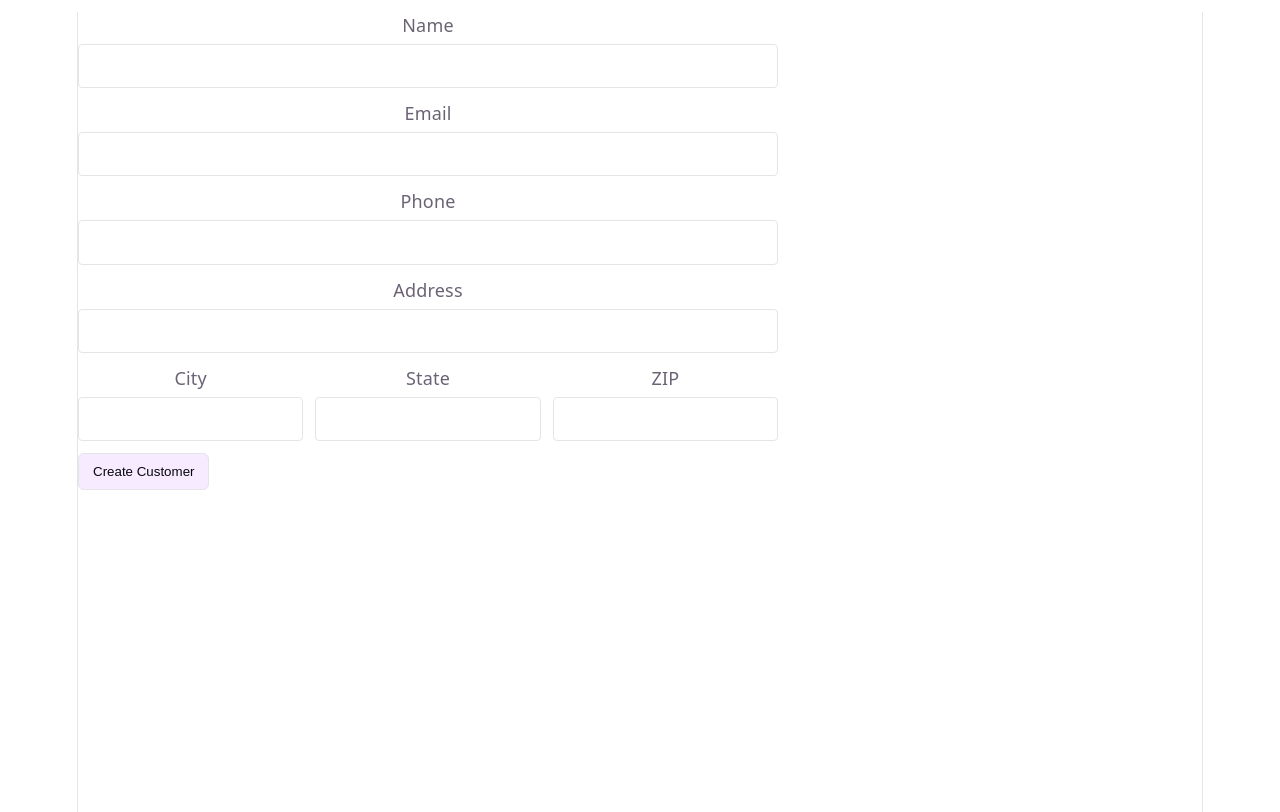
Scenario: CustomerForm › clears field error when user edits that field
Click the button "Create Customer" at x=144, y=471, box [78, 453, 210, 490]
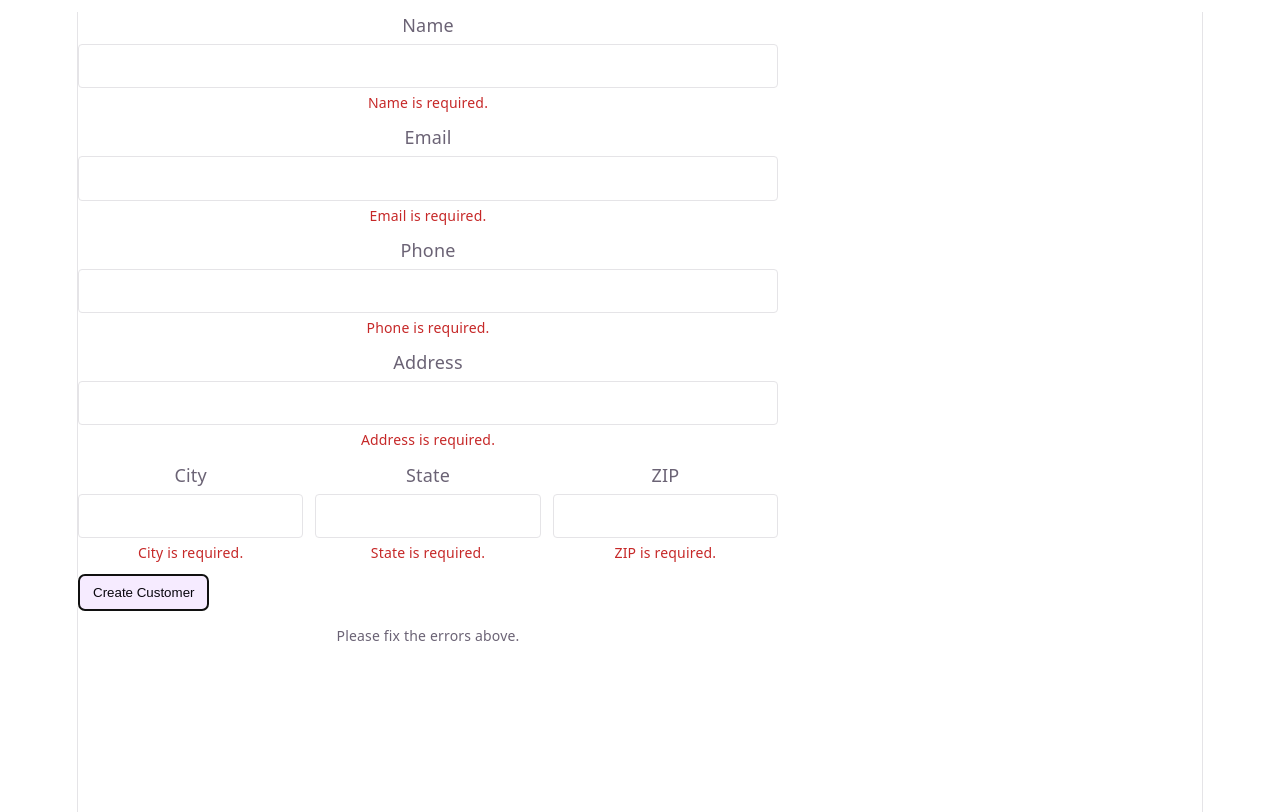
Expected: the text "Name is required." is shown, [368, 93, 488, 112]
Type "Alice" into the field labelled "Name Name is required." at x=428, y=66, box [78, 44, 778, 88]
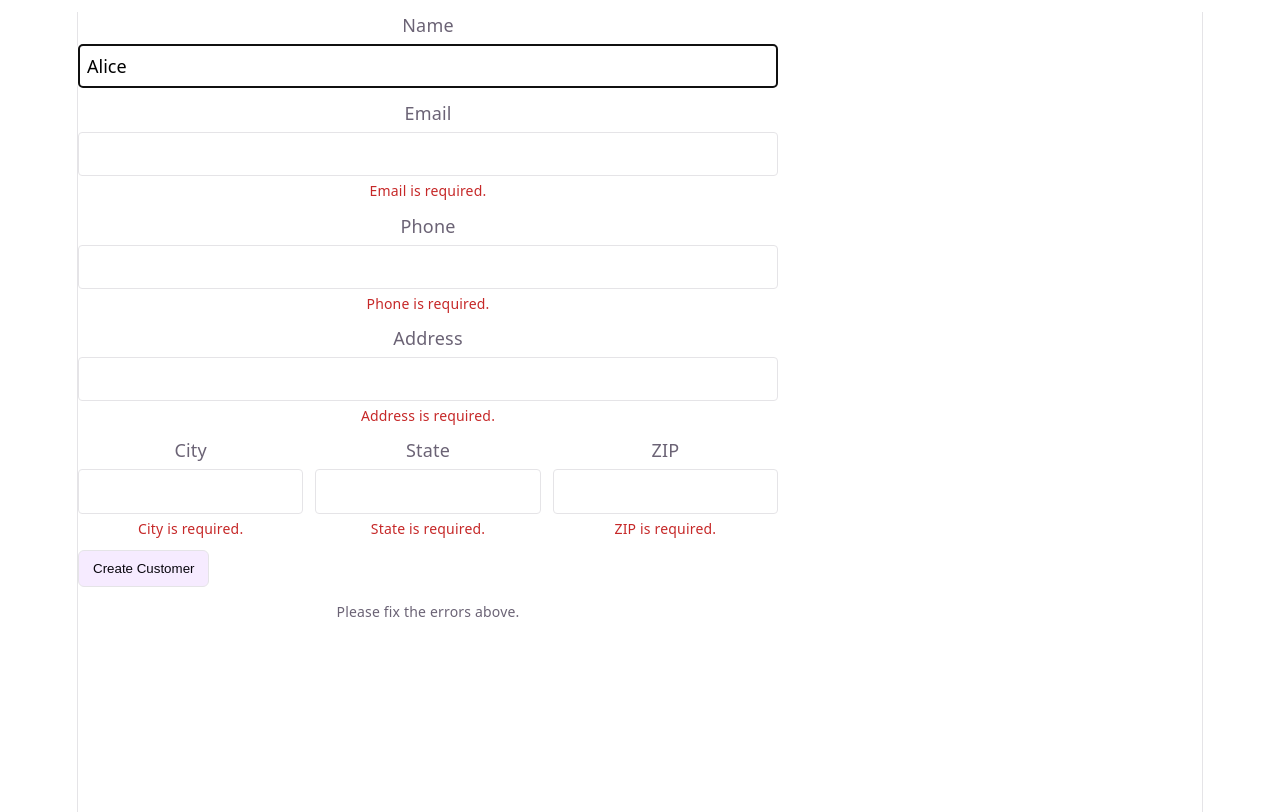
Expected: the text "Name is required." is gone
